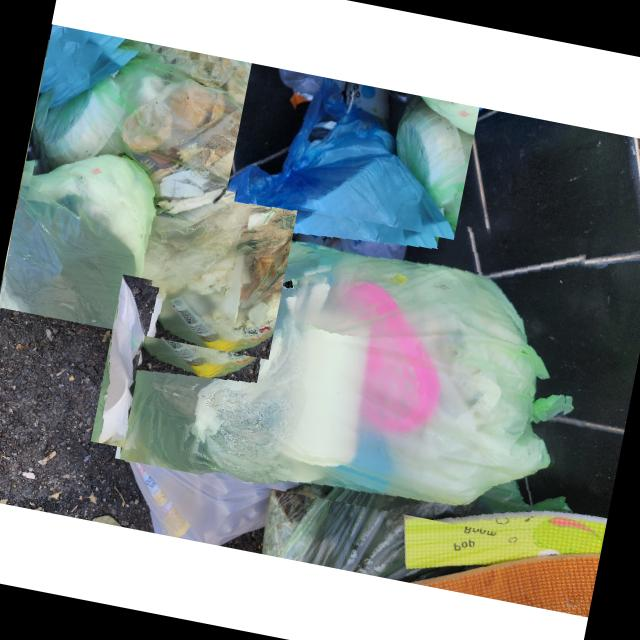general_trashbag: (120, 189, 566, 502), (38, 48, 321, 350)
other_trashbag: (227, 77, 454, 239), (99, 274, 144, 441)
